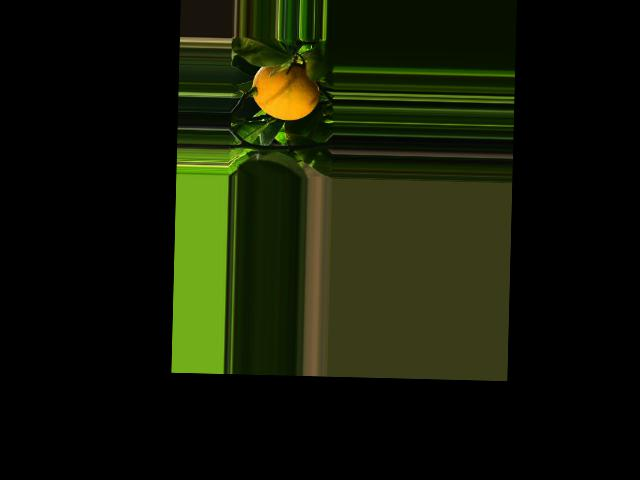lemon: (248, 56, 323, 126)
